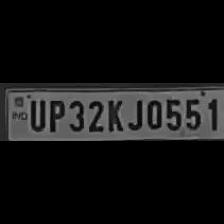0: (142, 96, 162, 130)
1: (203, 96, 221, 130)
2: (84, 97, 104, 133)
3: (66, 96, 84, 132)
5: (182, 95, 202, 131), (162, 96, 182, 130)
J: (126, 96, 142, 132)
K: (104, 97, 124, 133)
P: (46, 96, 64, 132)
U: (27, 96, 45, 132)
